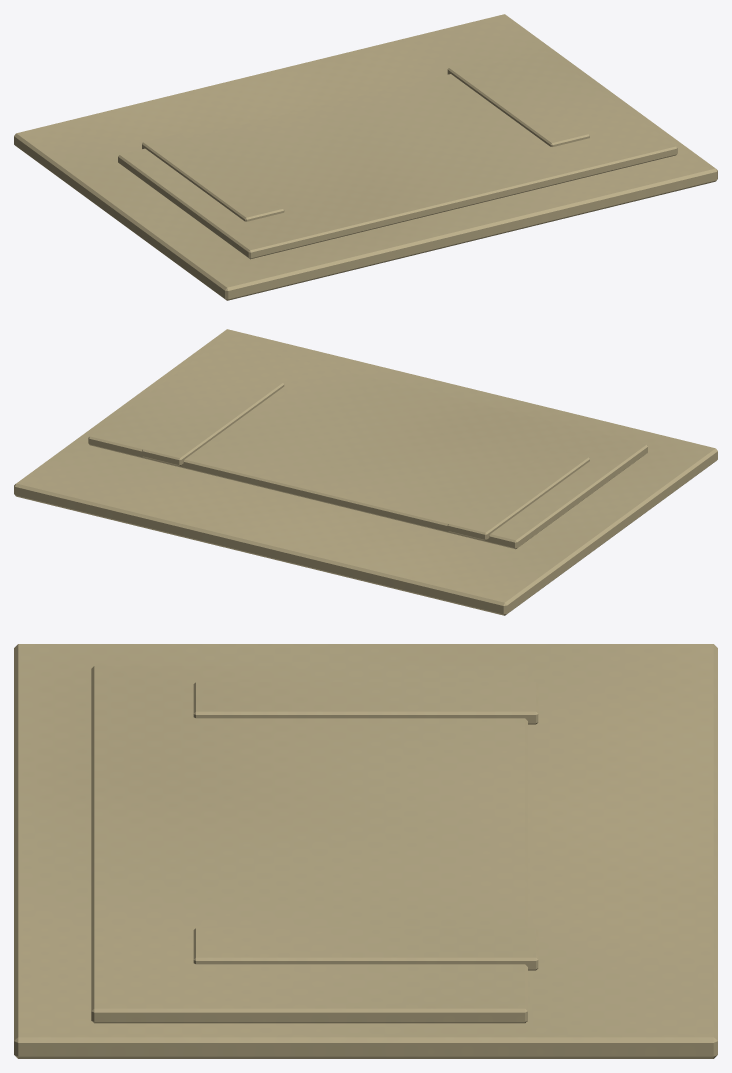
The model's file is WarrensC_WVC060_FoldedCloth_Mars_SM.fbx.
The picture shows the model from 3 angles, top to bottom: view 1: azimuth 30°, elevation 25°; view 2: azimuth 150°, elevation 25°; view 3: azimuth 270°, elevation 25°; orthographic projection. The views are drawn at different scales.
Visible parts, largest first — view 1: WarrensC_WVC060_FoldedCloth_Mars_SM.001; view 2: WarrensC_WVC060_FoldedCloth_Mars_SM.001; view 3: WarrensC_WVC060_FoldedCloth_Mars_SM.001.
Part boxes in pixels (<box>): WarrensC_WVC060_FoldedCloth_Mars_SM.001: <box>14,14,717,300</box>; WarrensC_WVC060_FoldedCloth_Mars_SM.001: <box>14,329,717,615</box>; WarrensC_WVC060_FoldedCloth_Mars_SM.001: <box>14,644,717,1058</box>.
Bounding box in the file's own units: 80 × 60 × 4.
